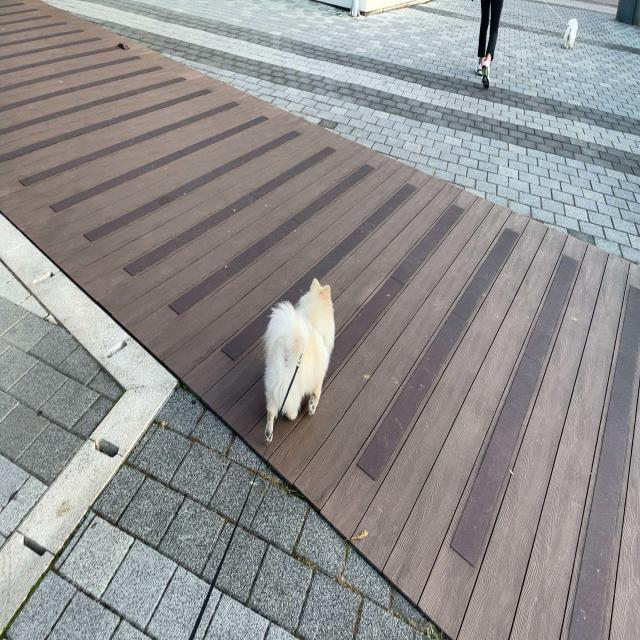Dog: (263, 276, 336, 444), (563, 16, 578, 50)
